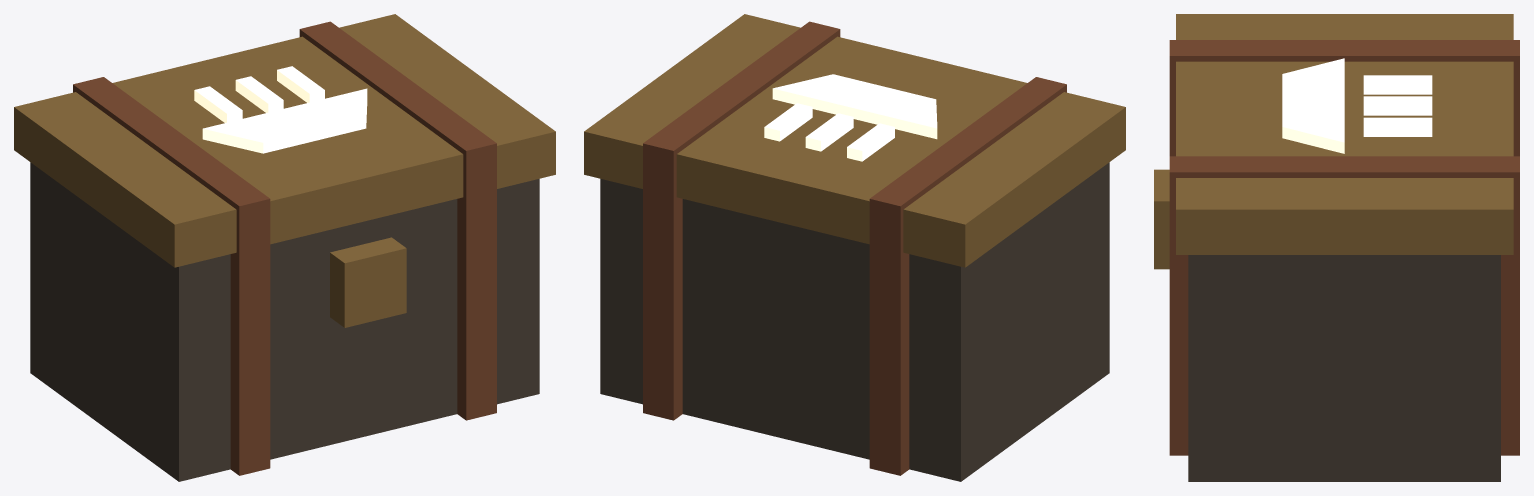
Rendered from sealed_box_food.glb.
3 views of the same model, side by side, from view 1: azimuth 30°, elevation 25°; view 2: azimuth 150°, elevation 25°; view 3: azimuth 270°, elevation 25° (orthographic). The views are drawn at different scales.
Visible parts, largest first — view 1: sealed_box_food; view 2: sealed_box_food; view 3: sealed_box_food.
Boxes of the visible parts, x1,y1,x2,y2 form: sealed_box_food: (14, 14, 555, 481); sealed_box_food: (584, 14, 1125, 481); sealed_box_food: (1154, 14, 1519, 481).
Size of the model in its own units: 0.74 by 0.51 by 0.585.
